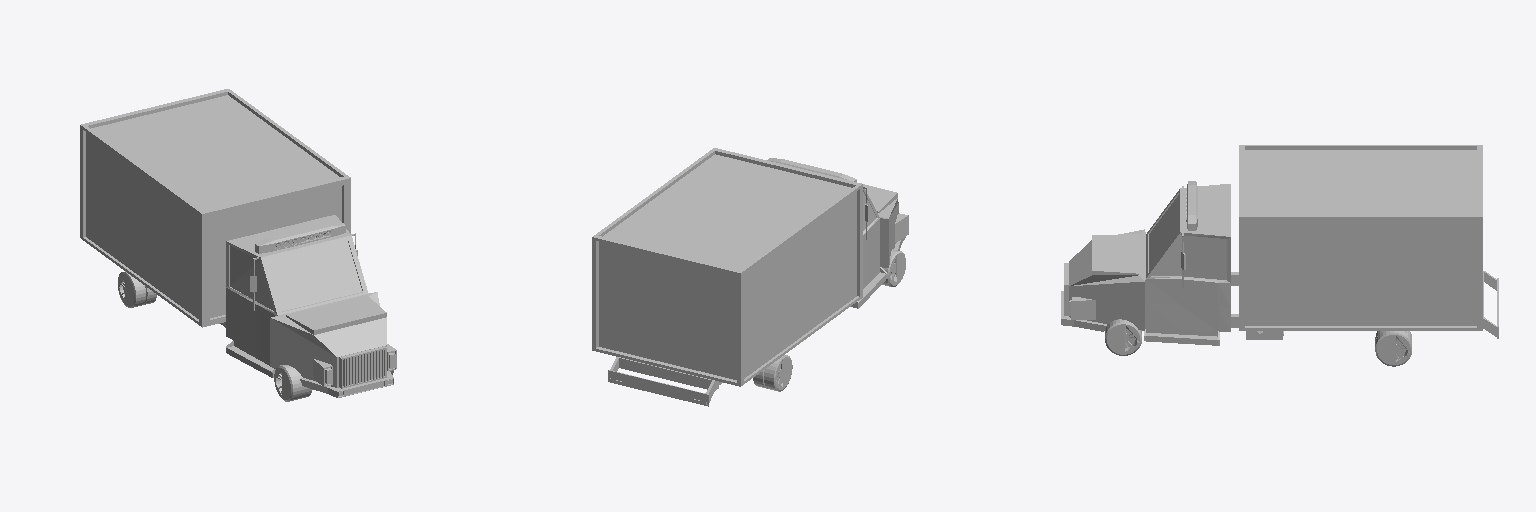
Rendered from car_7.obj.
3 views of the same model, side by side, from view 1: azimuth 30°, elevation 25°; view 2: azimuth 150°, elevation 25°; view 3: azimuth 270°, elevation 25° (orthographic).
Visible parts, largest first — view 1: Car_7_Cylinder.003; view 2: Car_7_Cylinder.003; view 3: Car_7_Cylinder.003.
Part boxes in pixels (bbox=[...]): Car_7_Cylinder.003: bbox=[80, 89, 396, 401]; Car_7_Cylinder.003: bbox=[592, 148, 908, 406]; Car_7_Cylinder.003: bbox=[1061, 145, 1498, 366].
Bounding box in the file's own units: 6.76 × 6.53 × 17.28.